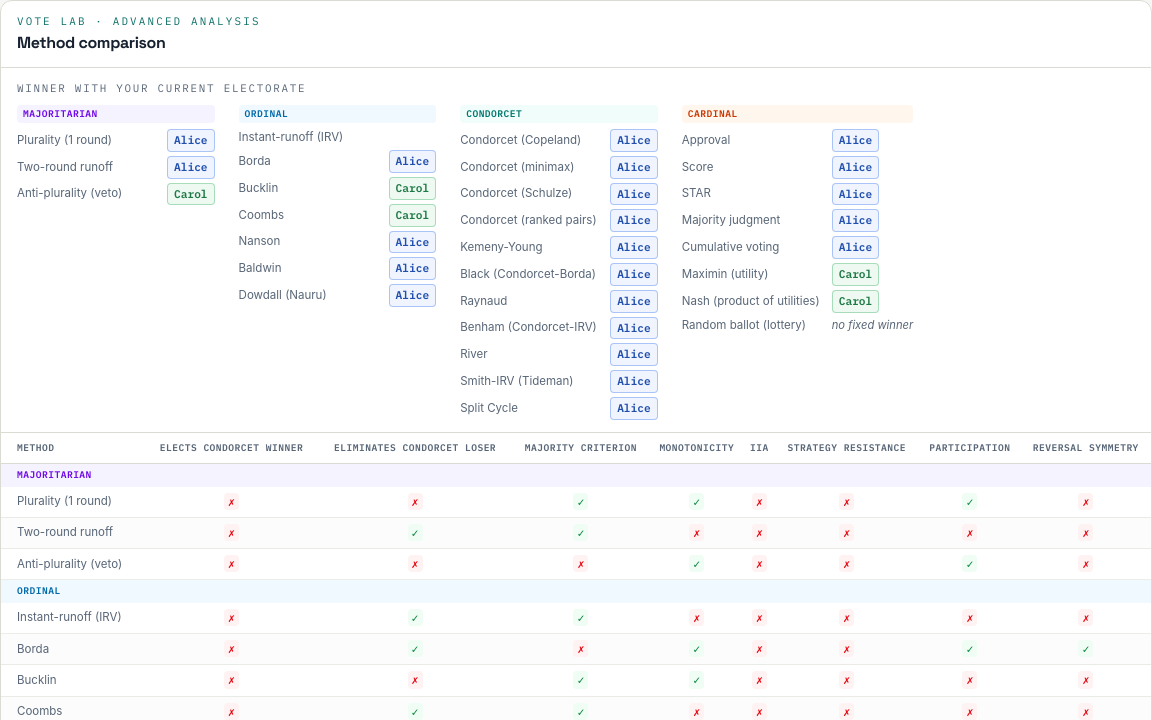
Scenario: MethodsMatrix › what a cell rests on › a literature cell names its source and its note, and reports itself
Click the button with test id "matrix-cell-plurality-strategy_proof" at (847,501), box [839,493,854,510]
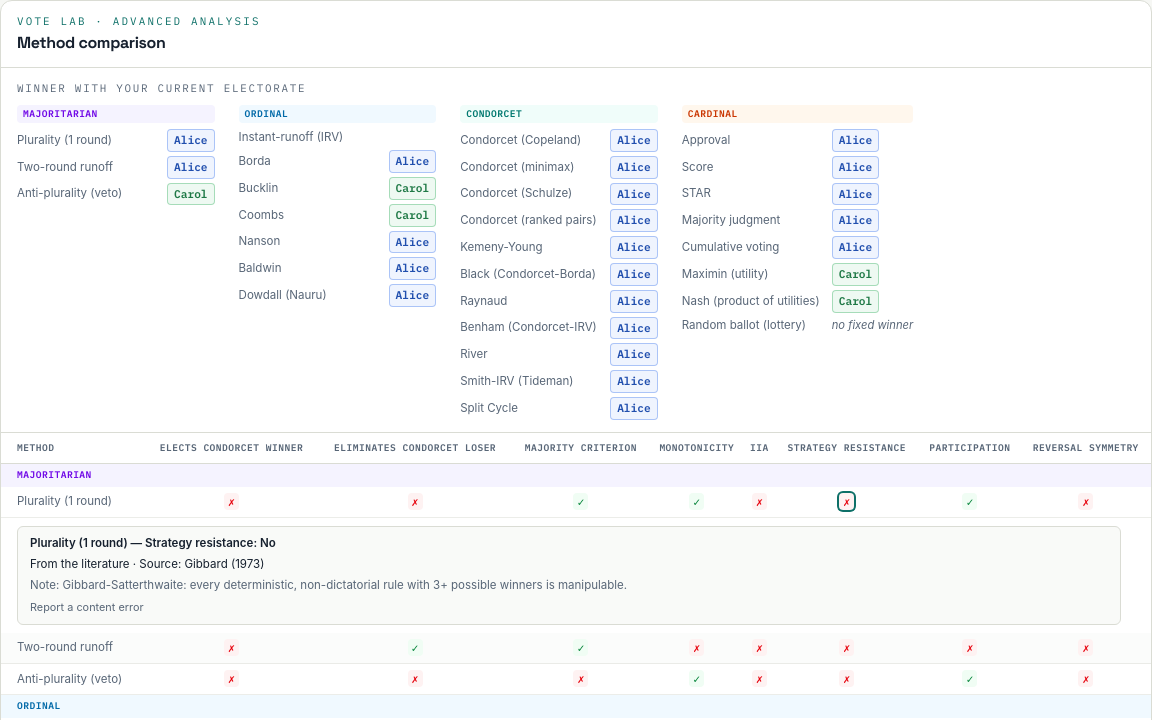
expect the element with test id "matrix-cell-source" shows "From the literature": met, box [30,557,264,571]
expect the element with test id "matrix-cell-source" shows "Gibbard (1973)": met, box [30,557,264,571]
expect the element with test id "matrix-cell-source" shows "Gibbard-Satterthwaite": met, box [62,578,627,592]
